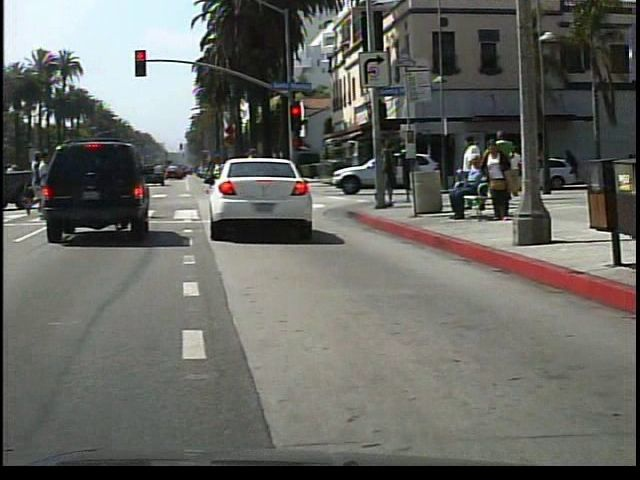person: (485, 136, 522, 227), (241, 143, 277, 217), (452, 157, 494, 220)
